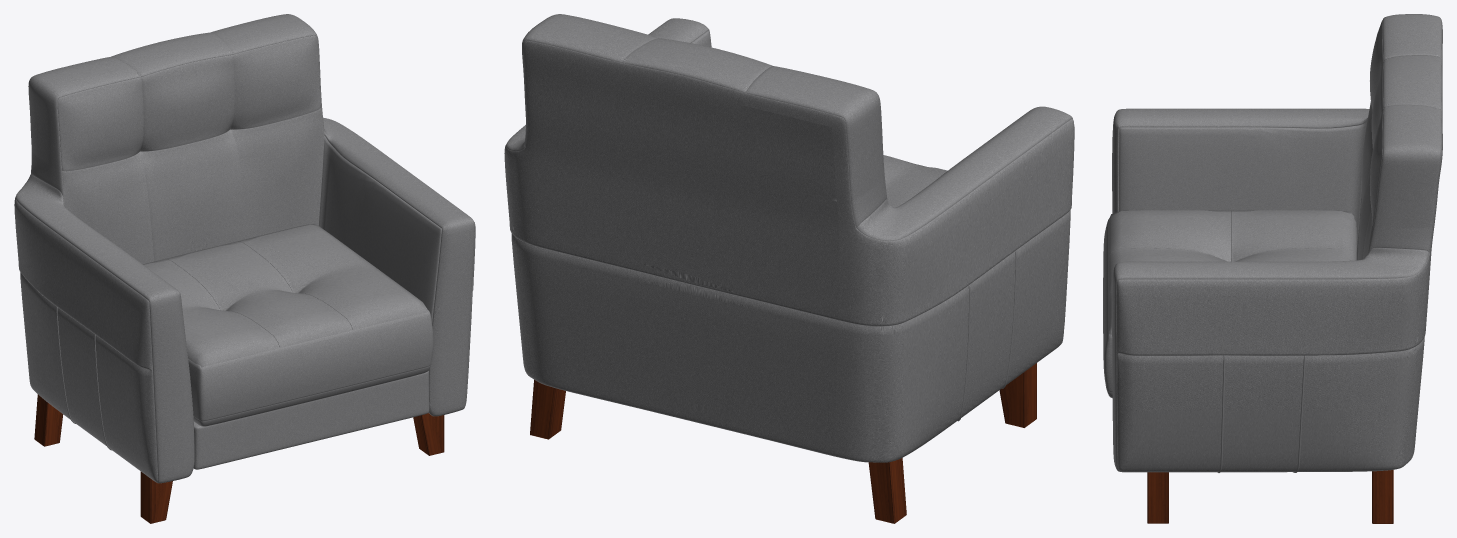
The model's file is Tapicerk_i_krzesla_Fotel_Roce.obj.
The picture shows the model from 3 angles, left to right: view 1: azimuth 30°, elevation 25°; view 2: azimuth 150°, elevation 25°; view 3: azimuth 270°, elevation 25°; orthographic projection. The views are drawn at different scales.
Visible parts, largest first — view 1: Object008, Object006, Object007, Object001, Box003, Box008, Box011; view 2: Object008, Object006, Box011, Object007, Box008; view 3: Object008, Object006, Object007, Object001, Box011, Box008.
Part boxes in pixels (<box>): Object008: <box>111,14,475,416</box>; Object006: <box>14,57,194,483</box>; Object007: <box>143,224,427,367</box>; Object001: <box>188,309,433,426</box>; Box003: <box>193,371,429,469</box>; Box008: <box>140,413,444,523</box>; Box011: <box>34,394,63,446</box>; Object008: <box>504,14,839,456</box>; Object006: <box>744,66,1074,462</box>; Box011: <box>530,379,906,523</box>; Object007: <box>883,155,947,207</box>; Box008: <box>999,363,1036,427</box>; Object008: <box>1112,55,1442,472</box>; Object006: <box>1112,14,1442,260</box>; Object007: <box>1109,210,1354,334</box>; Object001: <box>1103,218,1356,398</box>; Box011: <box>1372,470,1393,523</box>; Box008: <box>1147,472,1168,523</box>.
Bounding box in the file's own units: 84.4 × 83.91 × 69.7.
